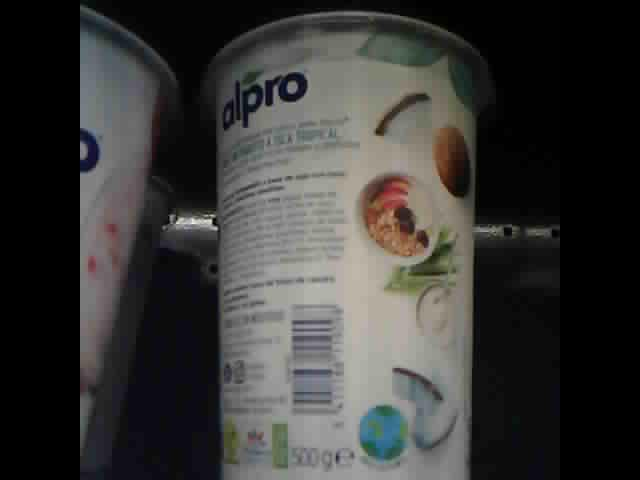alpro: (201, 11, 483, 480), (79, 1, 173, 475)
